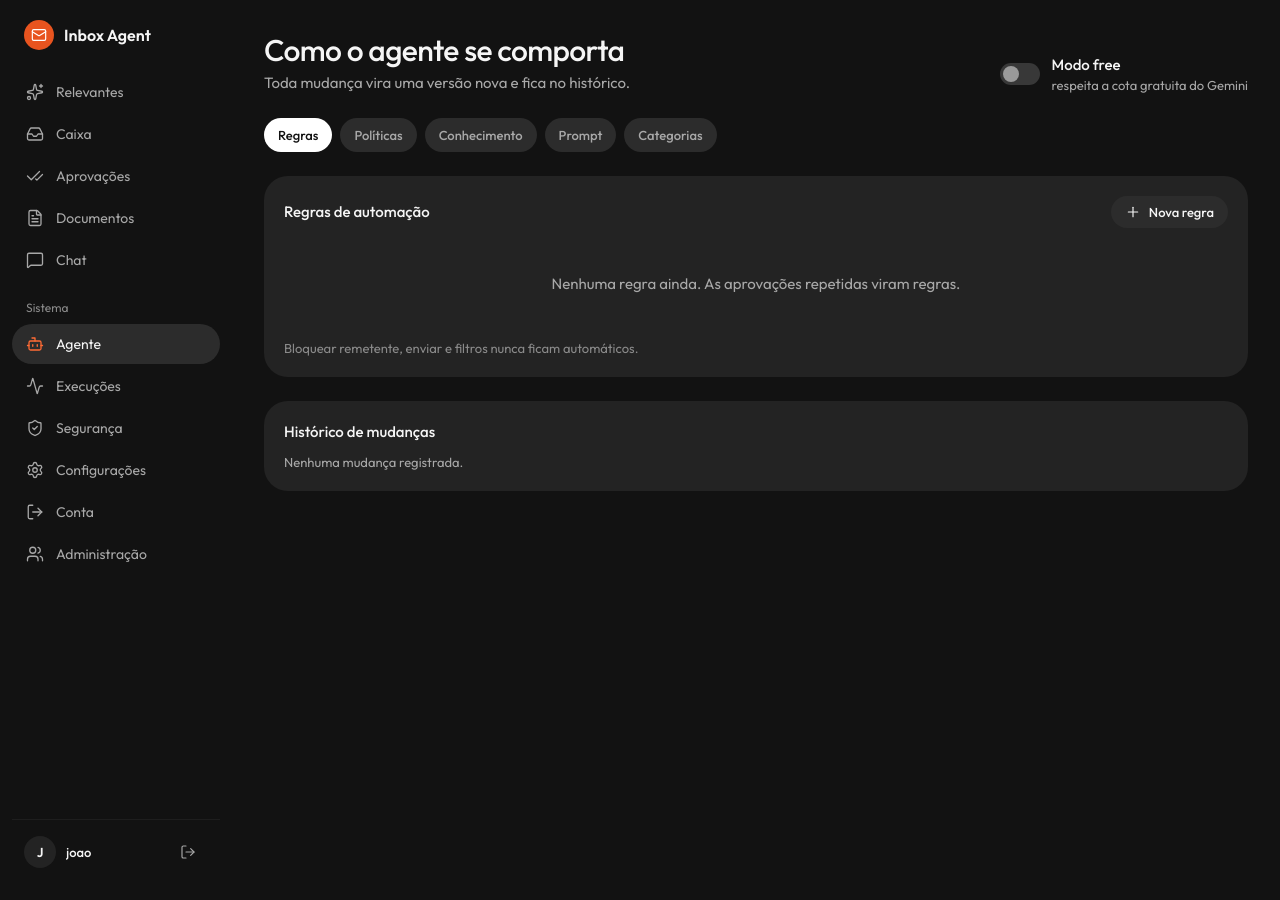
Test: empty_lists_have_messages
Check: the text "Nenhuma regra ainda. As aprovações repetidas viram regras." is shown, box [552,272,960,295]
Check: the text "Nenhuma mudança registrada." is shown, box [284,454,463,470]
Click the tab "Conhecimento" at coordinates (481, 135), box [425,118,537,152]
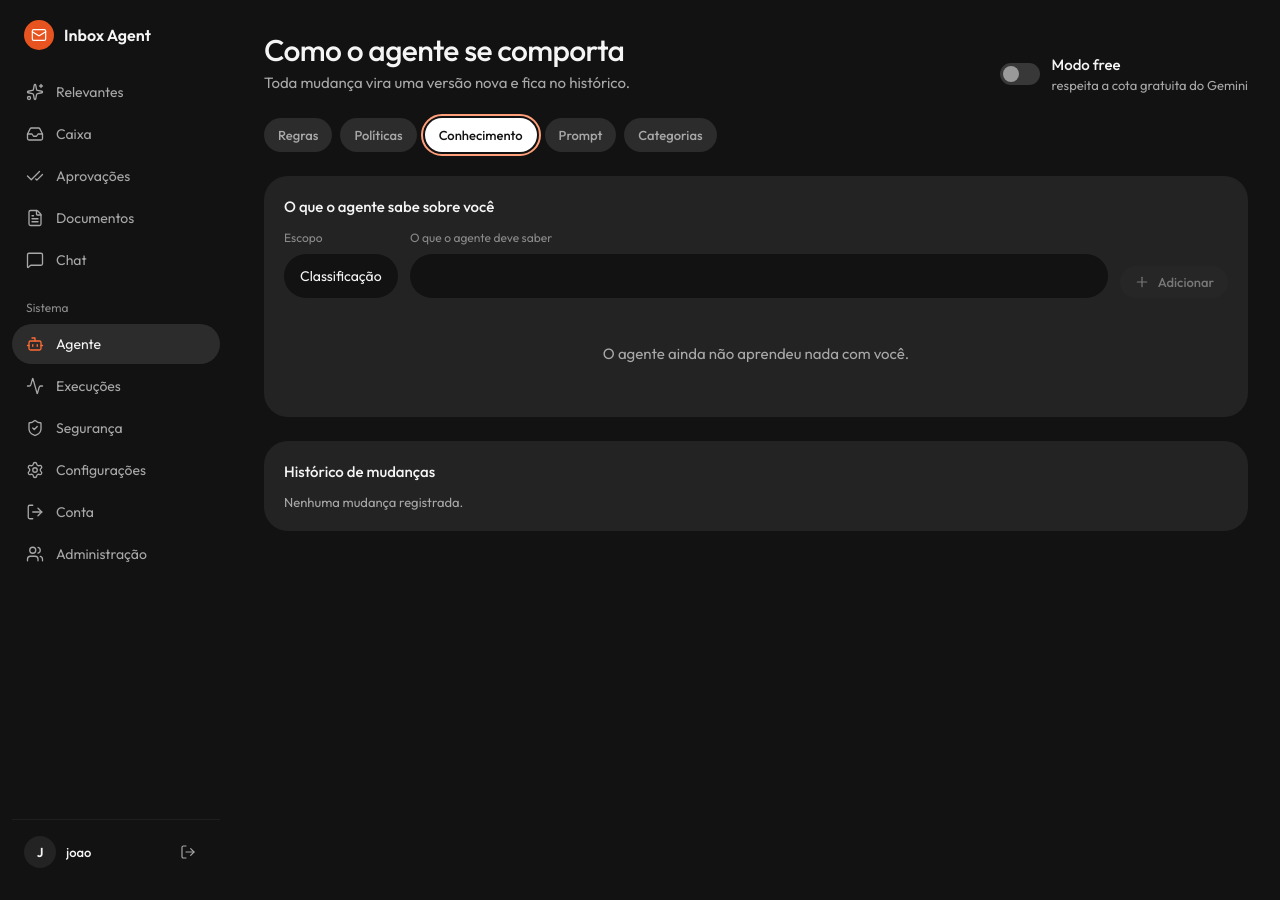
Check: the text "O agente ainda não aprendeu nada com você." is shown, box [603,342,909,365]
